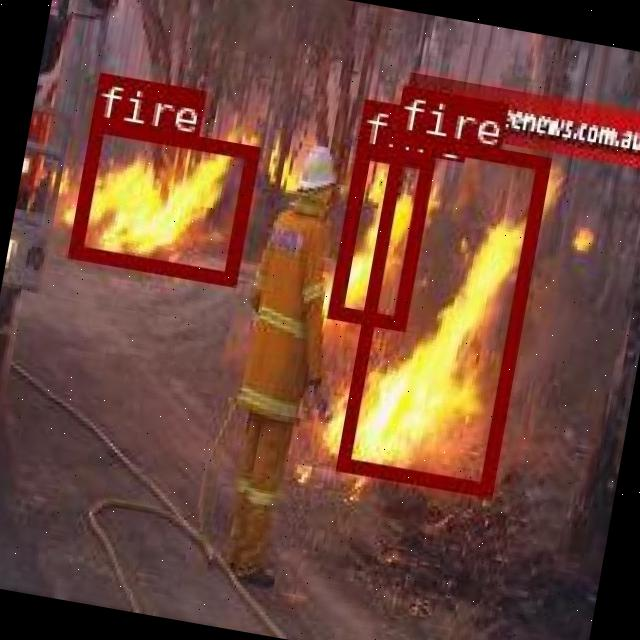fire: (335, 130, 547, 494), (66, 116, 256, 282), (326, 144, 431, 326)
